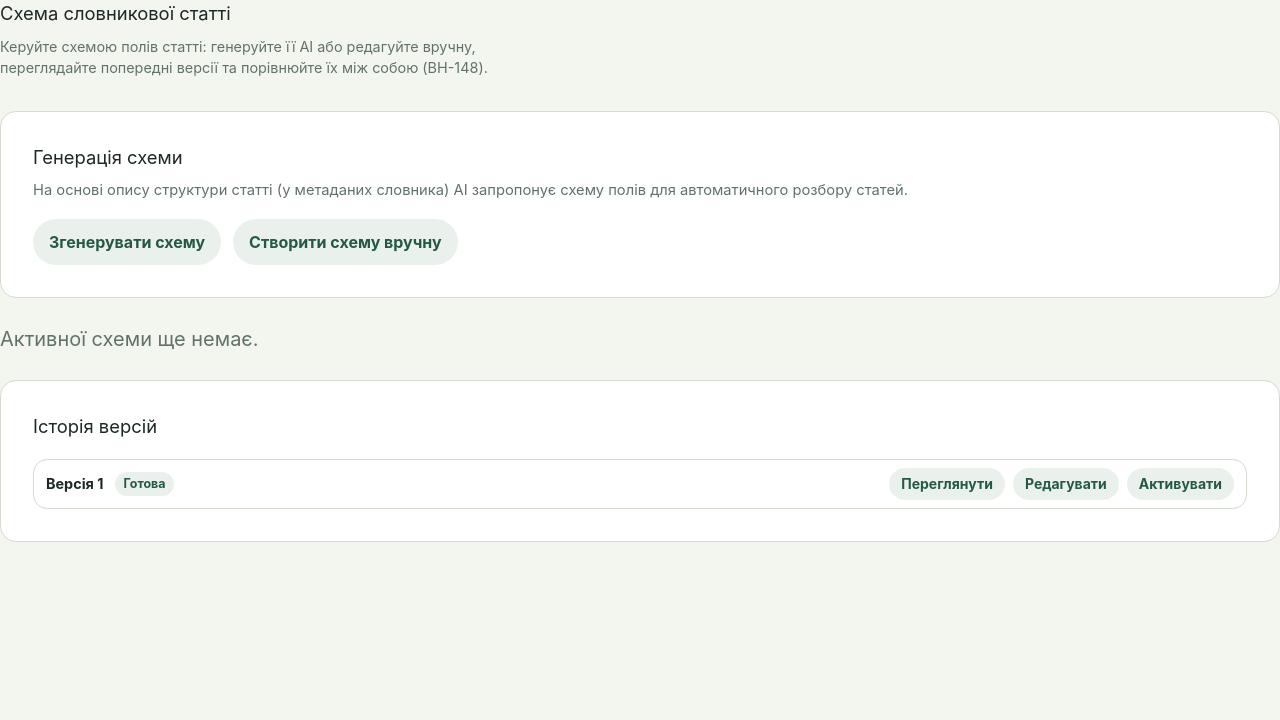
Scenario: ArticleSchemaPage › edits a version and saves it as a new version
Click the button "Редагувати": (1066, 484) [1013, 468, 1119, 500]
(page scrolled)
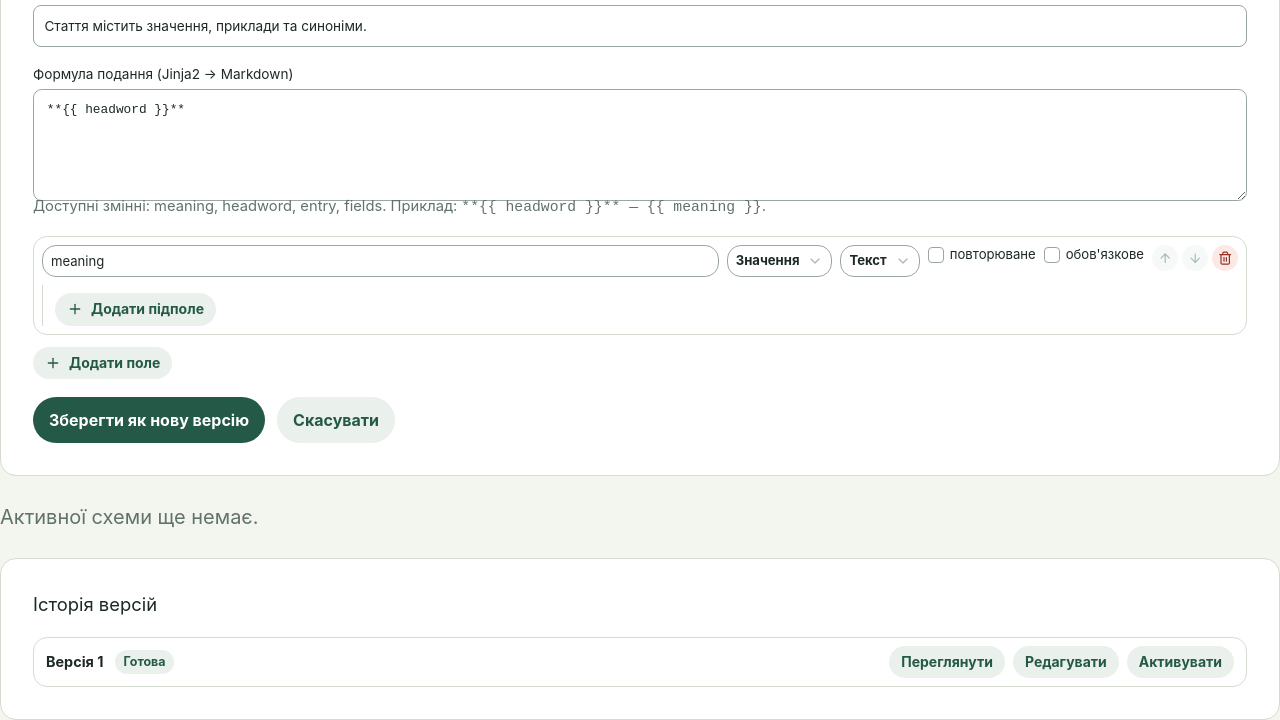
Click the button "Зберегти як нову версію": (149, 420) [33, 397, 265, 443]
(page scrolled)
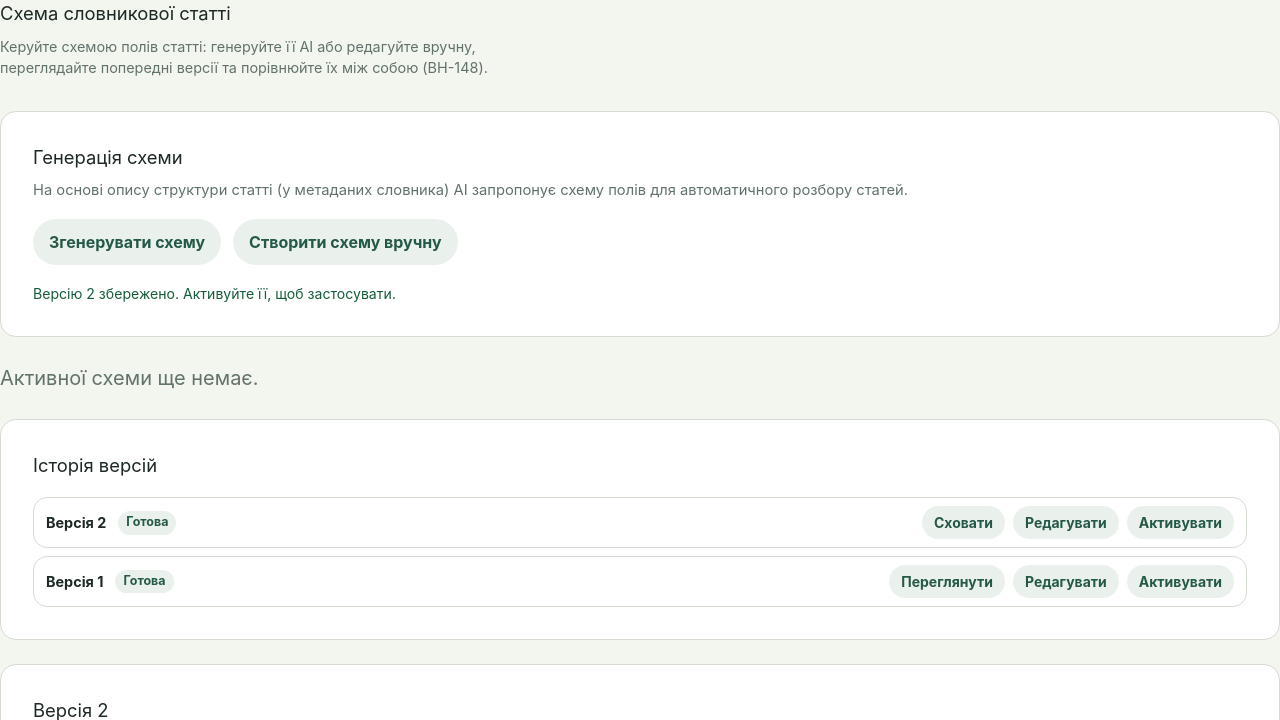
Expected: the text "Версію 2 збережено. Активуйте її, щоб застосувати." is shown, [33, 285, 396, 302]
